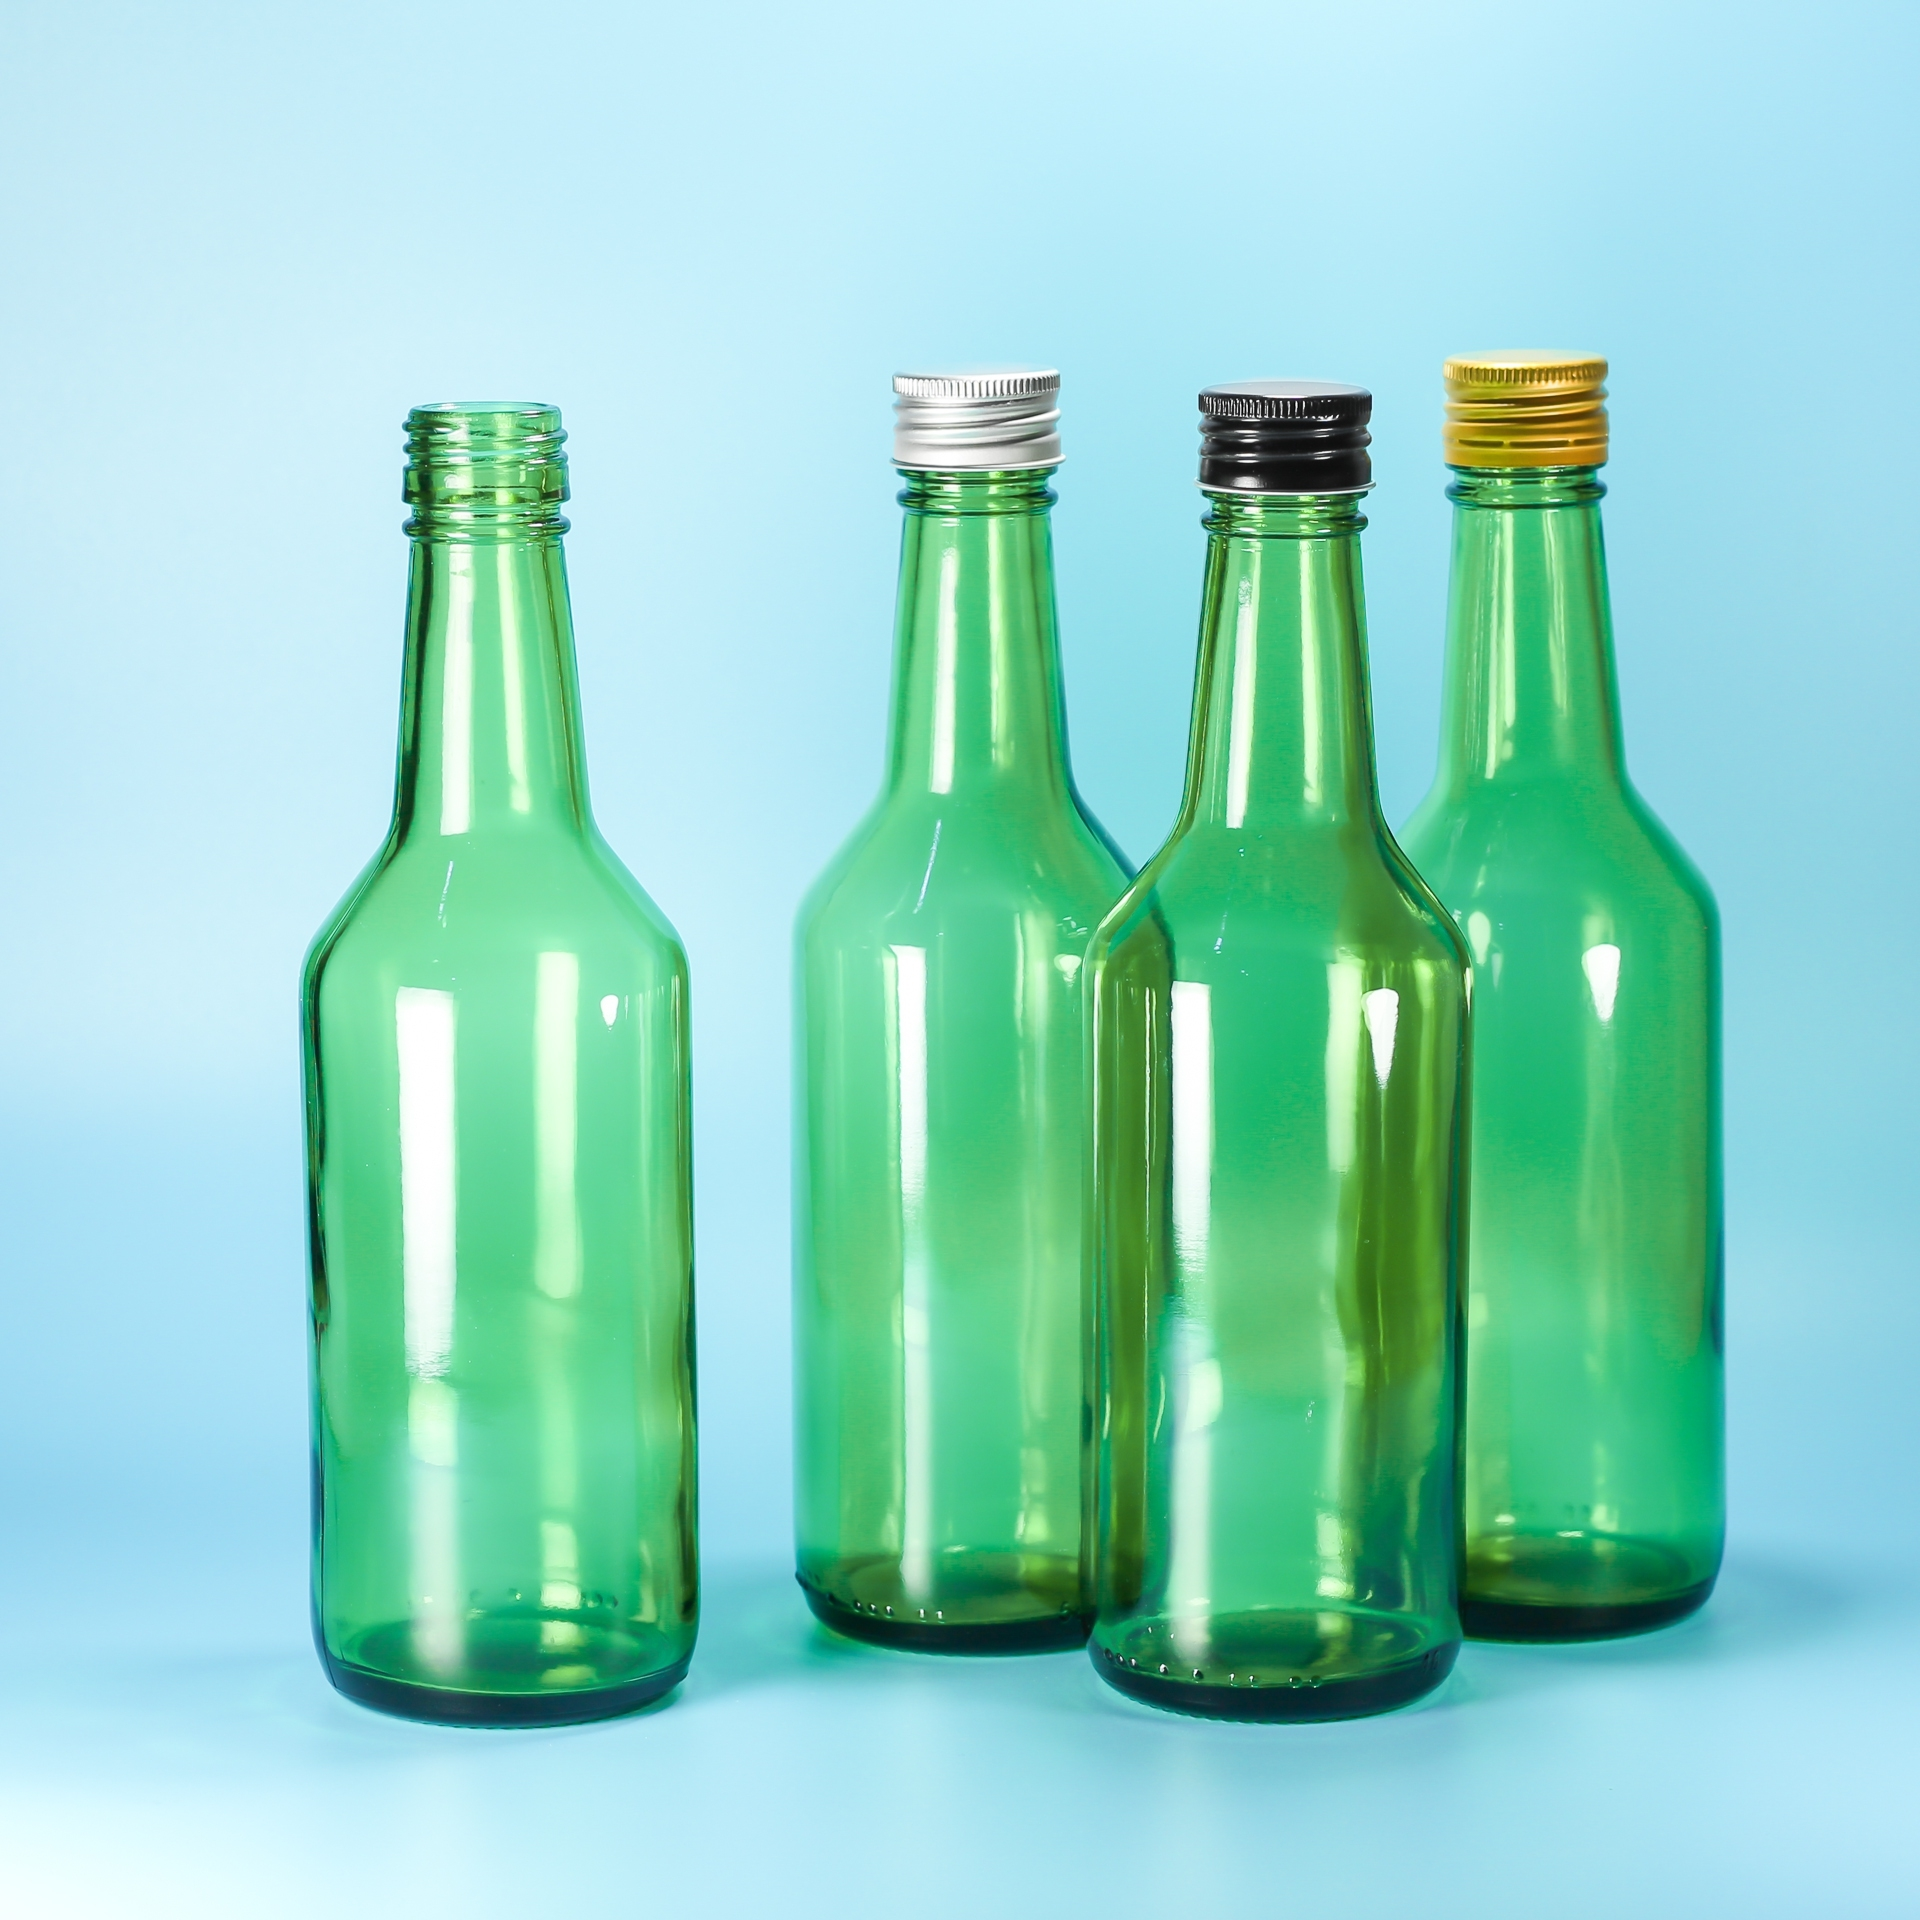glass_bottle: (774, 345, 1764, 1749), (260, 371, 747, 1769)
